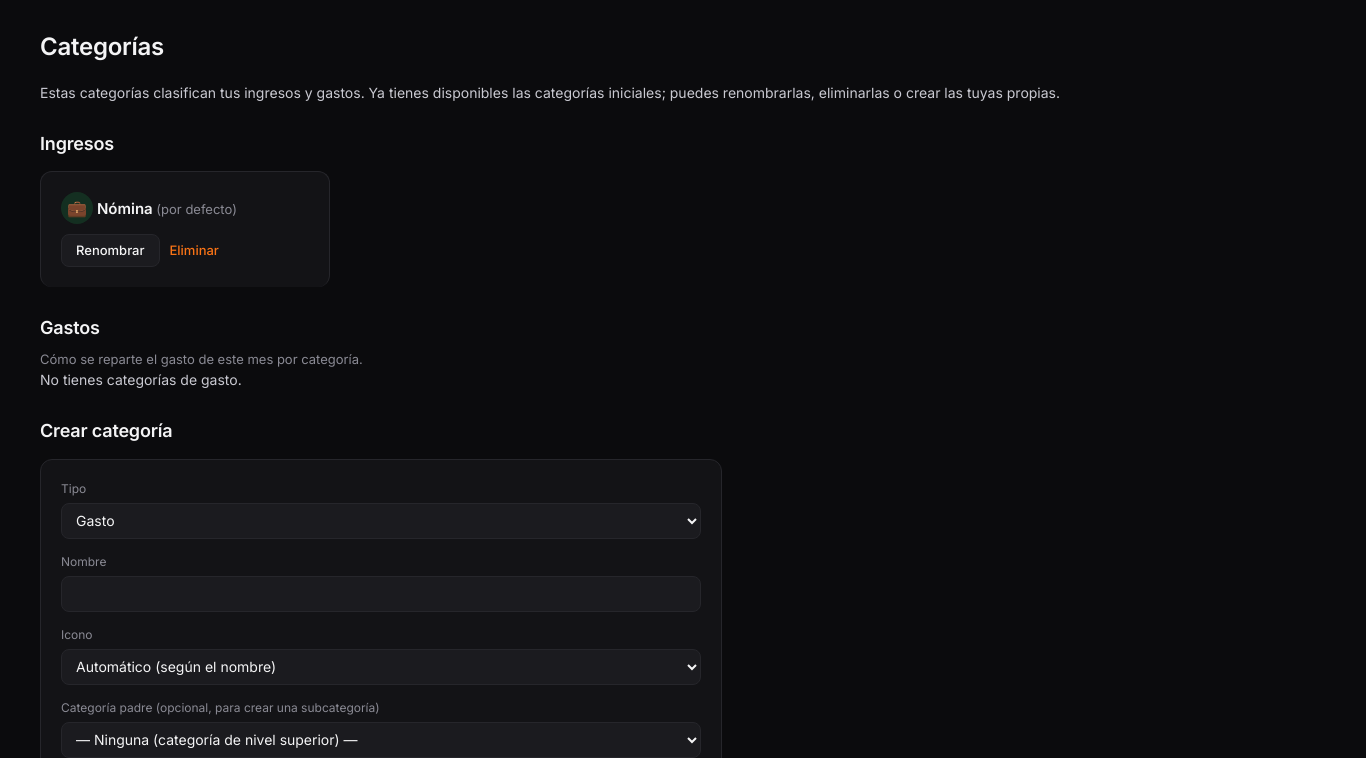
CategoriesPage › elimina una categoría sin uso y la quita de la lista
Expected: the text "Nómina" is shown, [97,198,153,218]
Click the button "Eliminar".
click(194, 250)  # box [164,234,225,267]
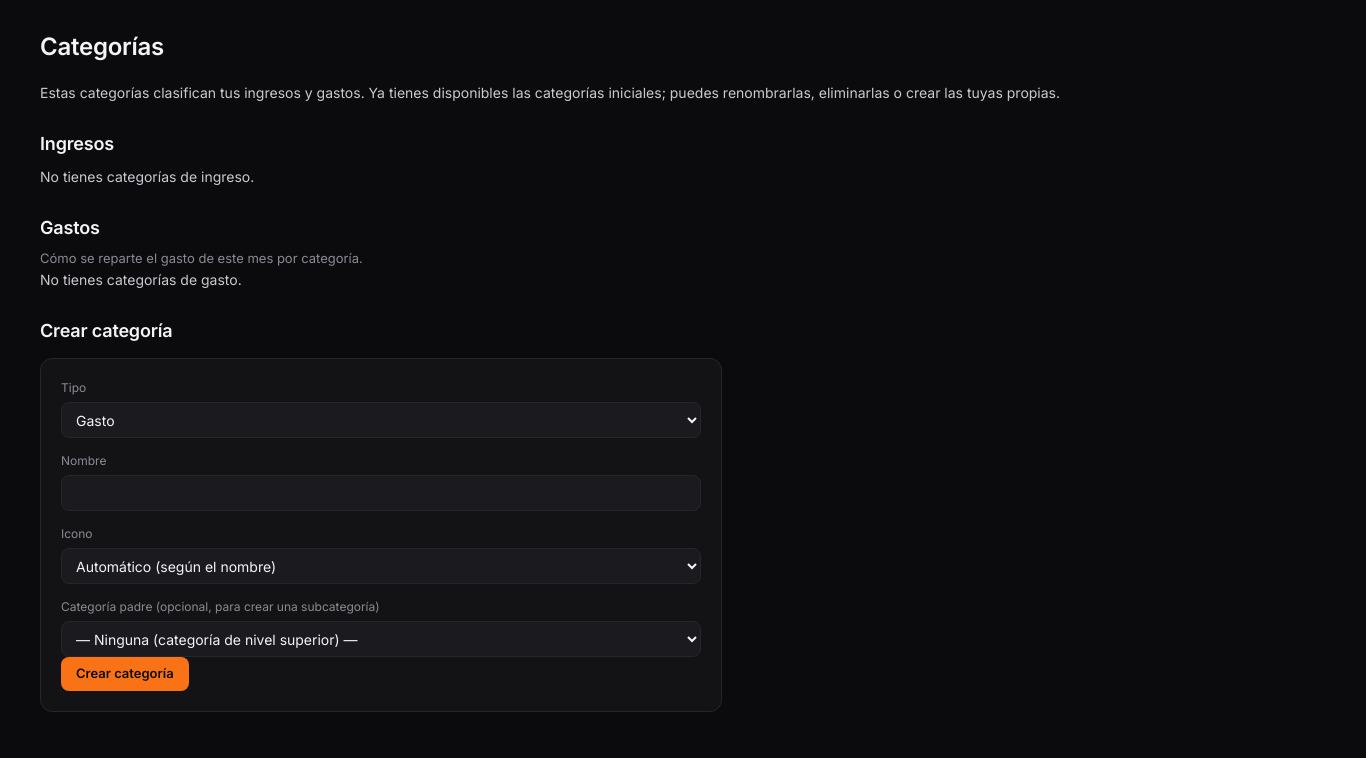
Now the text "Nómina" is gone
